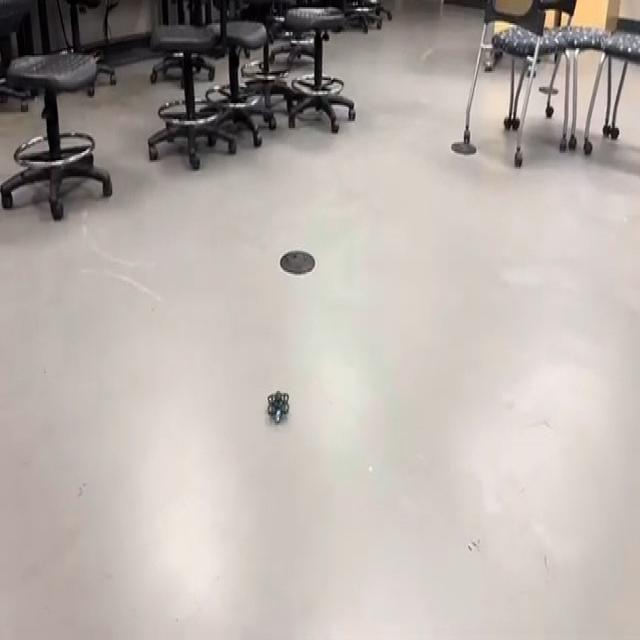drone: (261, 377, 297, 435)
